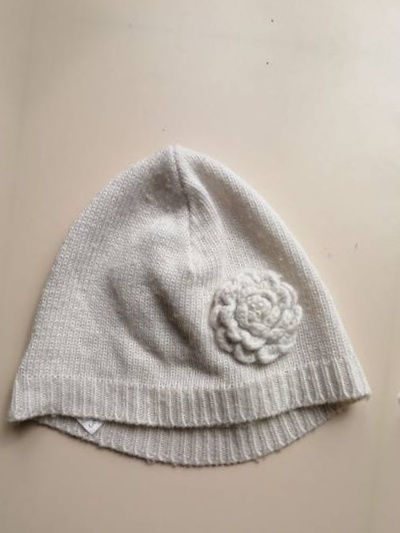Hat: (0, 109, 397, 493), (0, 65, 20, 450), (389, 155, 400, 533)
